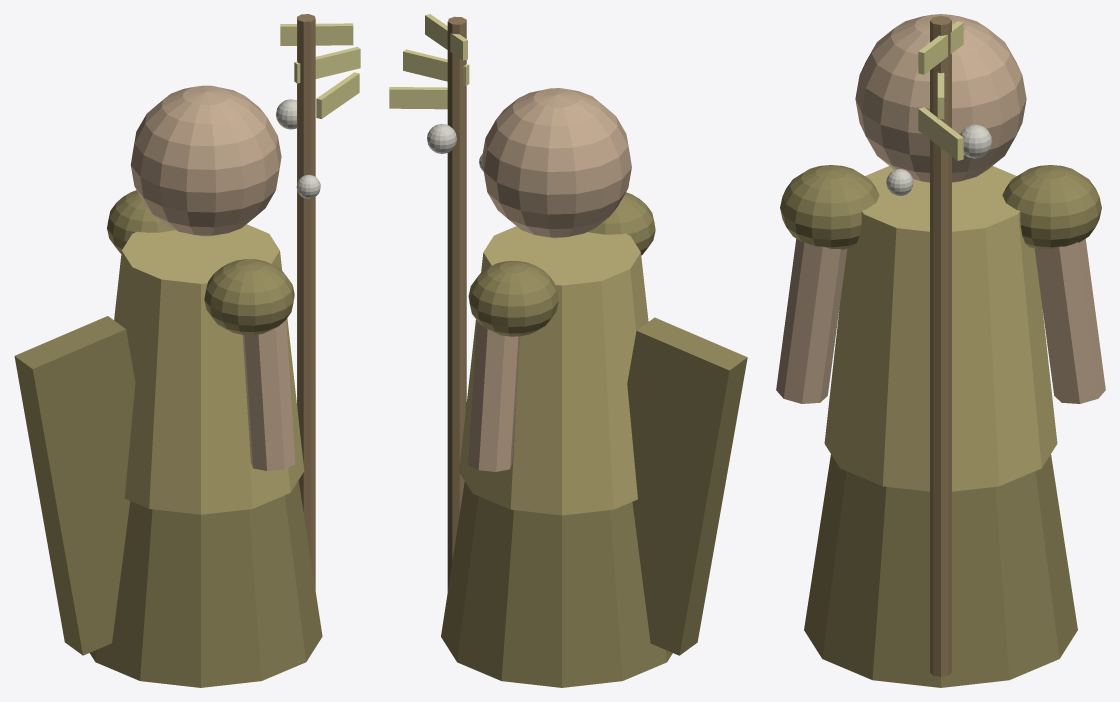
The model's file is hero_sarn_5.glb.
3 renders of one model, left to right at view 1: azimuth 30°, elevation 25°; view 2: azimuth 150°, elevation 25°; view 3: azimuth 270°, elevation 25°, orthographic. The views are drawn at different scales.
Parts seen in each view (by area): view 1: figurka; view 2: figurka; view 3: figurka.
Part boxes in pixels (bbox=[...]): figurka: bbox=[14, 14, 360, 687]; figurka: bbox=[389, 14, 747, 687]; figurka: bbox=[776, 14, 1105, 687].
Size of the model in its own units: 0.6514 by 1.08 by 0.4814.
